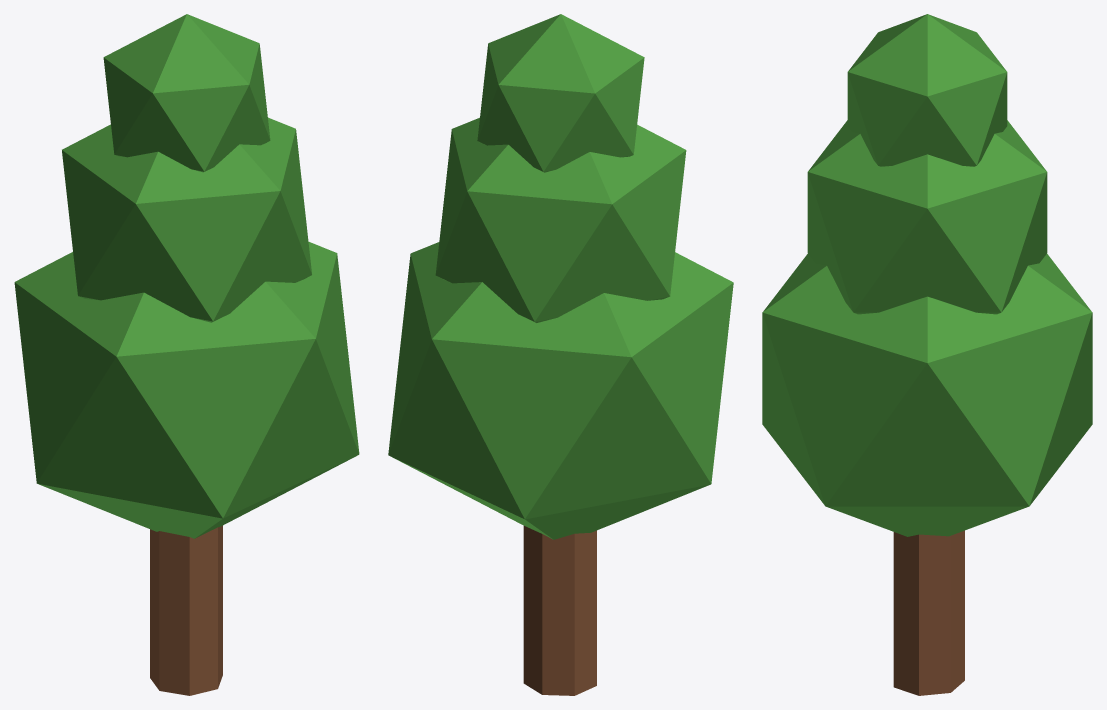
Rendered from tree_c.glb.
3 renders of one model, left to right at view 1: azimuth 30°, elevation 25°; view 2: azimuth 150°, elevation 25°; view 3: azimuth 270°, elevation 25°, orthographic.
Parts seen in each view (by area): view 1: TreeC; view 2: TreeC; view 3: TreeC.
Part boxes in pixels (x1,y1,x2,y2): TreeC: (14, 14, 359, 695); TreeC: (388, 14, 733, 695); TreeC: (762, 14, 1092, 695).
Size of the model in its own units: 1.11 by 2.35 by 1.05.
